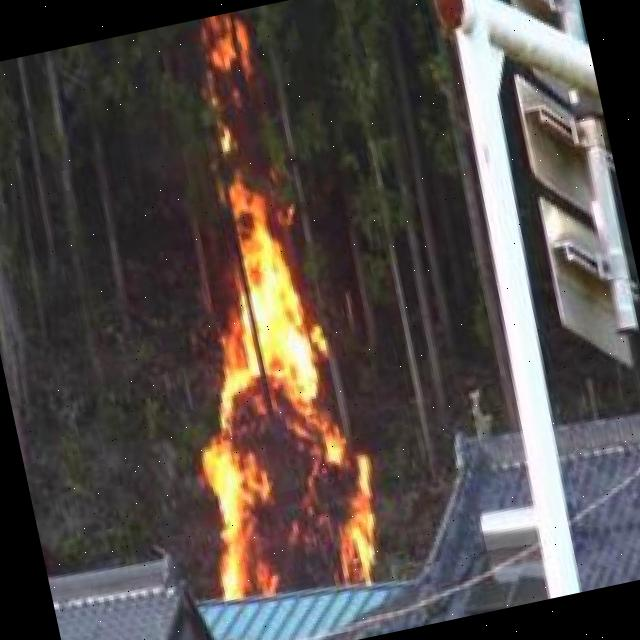fire: (145, 178, 399, 611), (186, 13, 272, 111)
